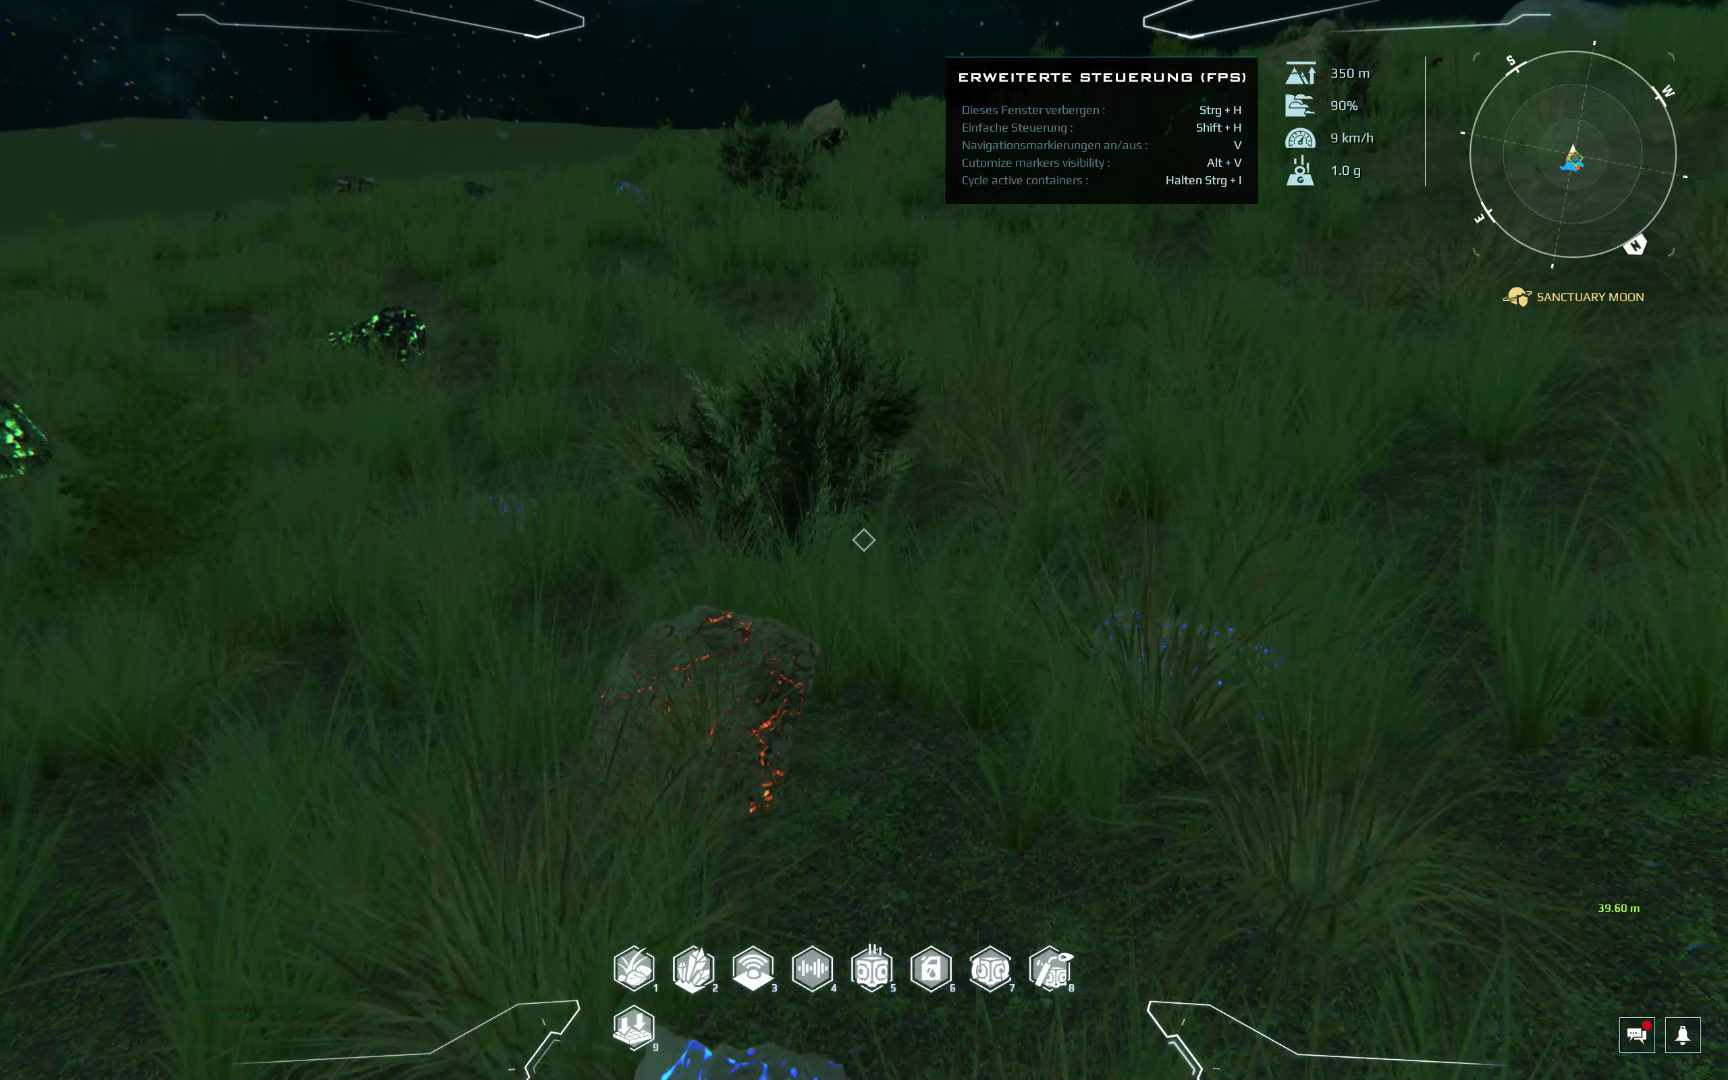Ore: (575, 597, 816, 839), (1079, 598, 1290, 704), (623, 1019, 857, 1080), (316, 300, 442, 375), (468, 478, 554, 540), (2, 396, 56, 493), (799, 119, 853, 164), (323, 172, 384, 198), (457, 179, 503, 204), (610, 178, 647, 203)
